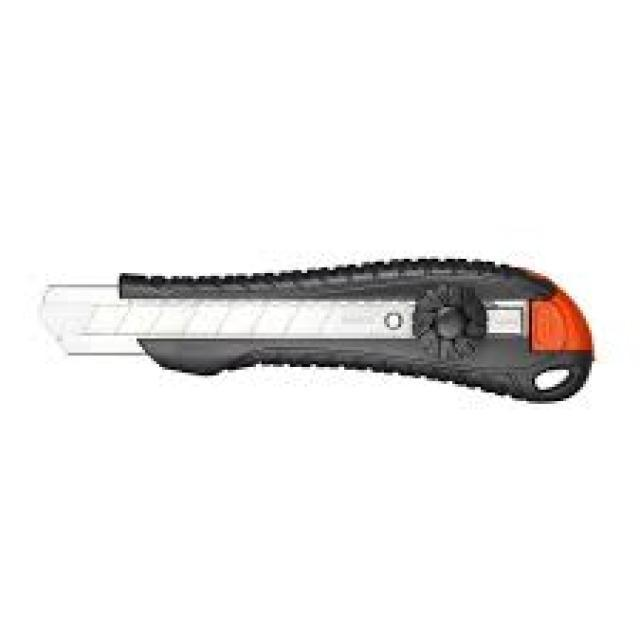cutter: (27, 236, 615, 417)
